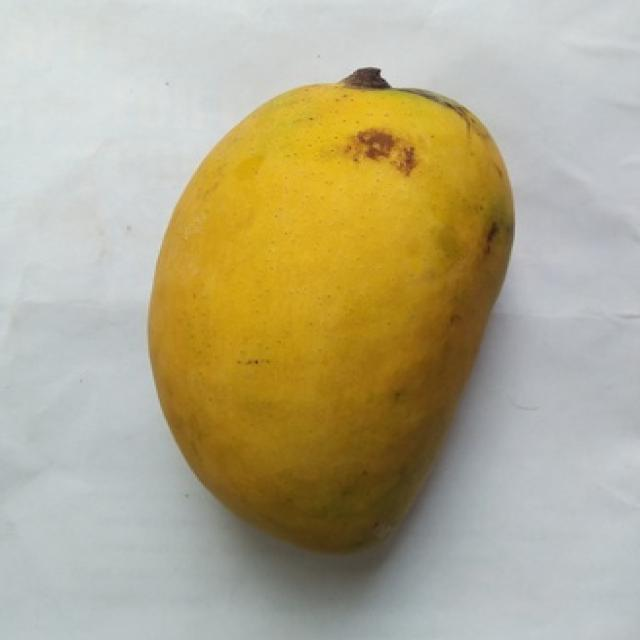Mango: (148, 85, 511, 549)
